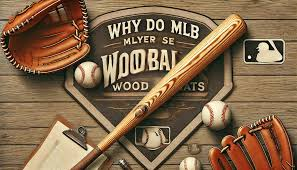baseball bat: (70, 12, 248, 170)
